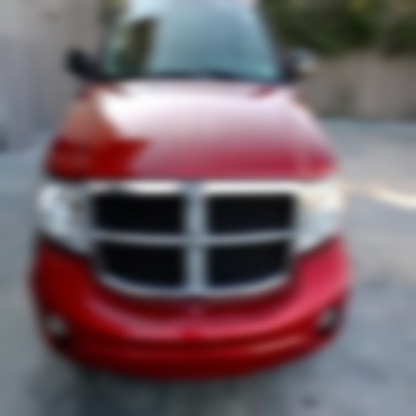Vehicle: (28, 1, 357, 386)
